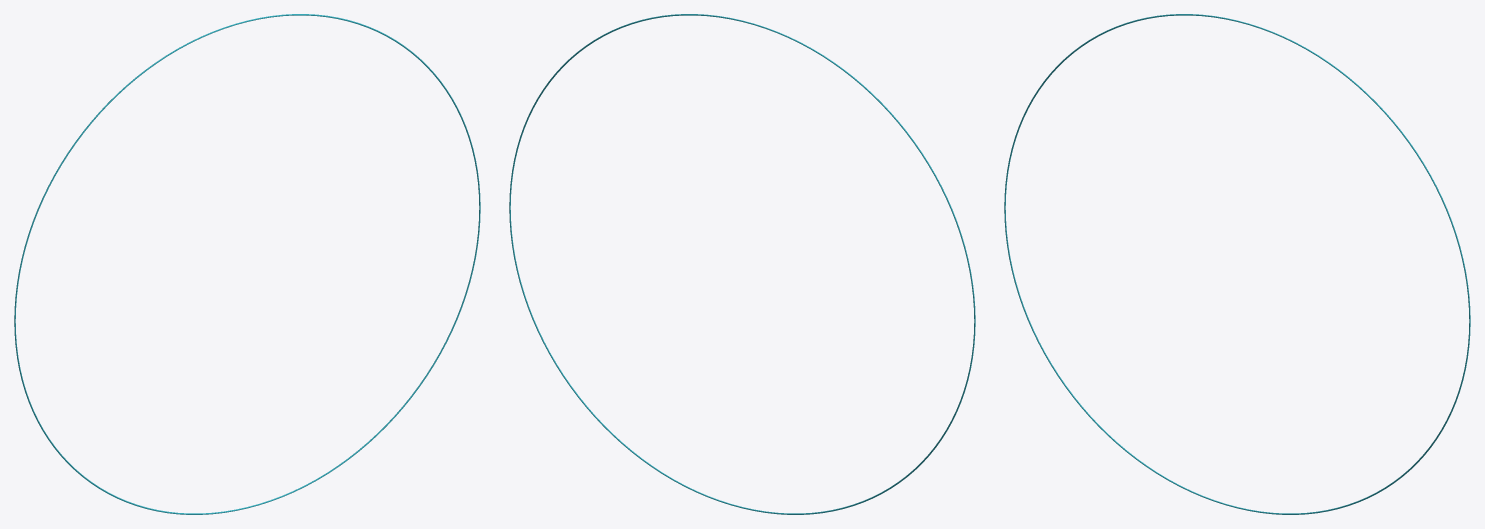
Rendered from circule3.glb.
The picture shows the model from 3 angles, left to right: view 1: azimuth 30°, elevation 25°; view 2: azimuth 150°, elevation 25°; view 3: azimuth 330°, elevation 25°; orthographic projection.
Visible parts, largest first — view 1: Circle3; view 2: Circle3; view 3: Circle3.
Part boxes in pixels (left/top/right/bottom): Circle3: left=14, top=14, right=480, bottom=514; Circle3: left=509, top=14, right=975, bottom=514; Circle3: left=1004, top=14, right=1470, bottom=514.
Bounding box in the file's own units: 52.64 × 52.64 × 0.1386.
